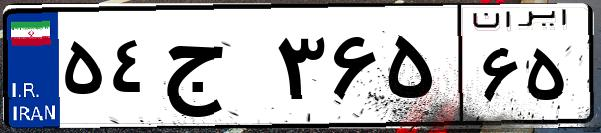3: (270, 28, 330, 110)
4: (110, 28, 158, 98)
5: (385, 28, 445, 110), (57, 26, 110, 100), (525, 38, 570, 115)
6: (330, 28, 385, 110), (475, 38, 525, 113)
ج: (158, 20, 270, 120)
